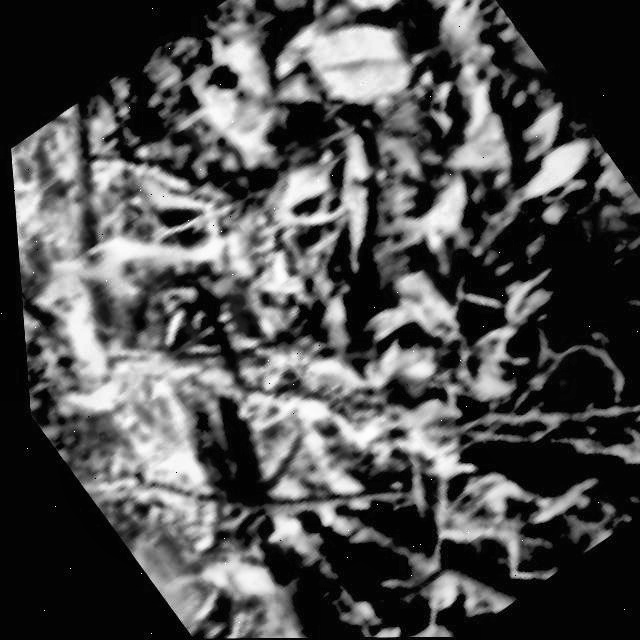Fire: (7, 115, 409, 612)
